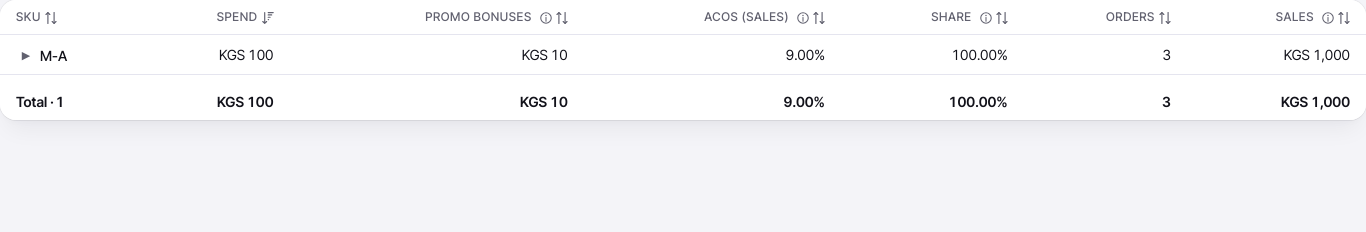
it: AdsSkuTable — an article opens into its display zones › shows the zones under the row only once the ▶ is clicked
Expected: the text "Placement" is not shown
Click the button "▶": (26, 55) [16, 45, 36, 65]
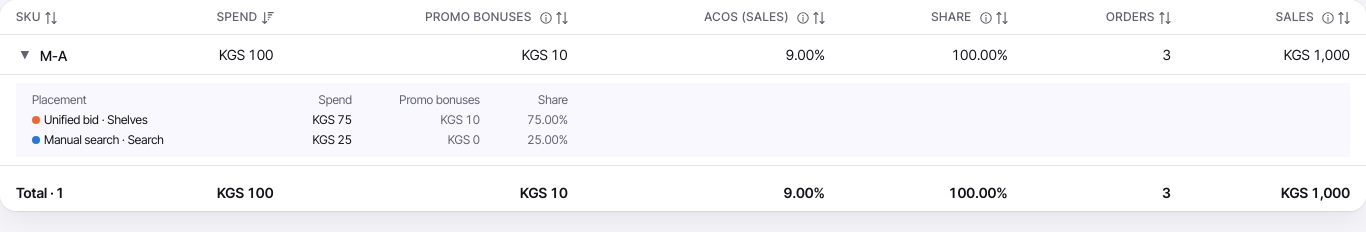
Expected: the text "Unified bid · Shelves" is shown, [32, 112, 148, 127]
Expected: the text "Manual search · Search" is shown, [32, 132, 164, 147]
